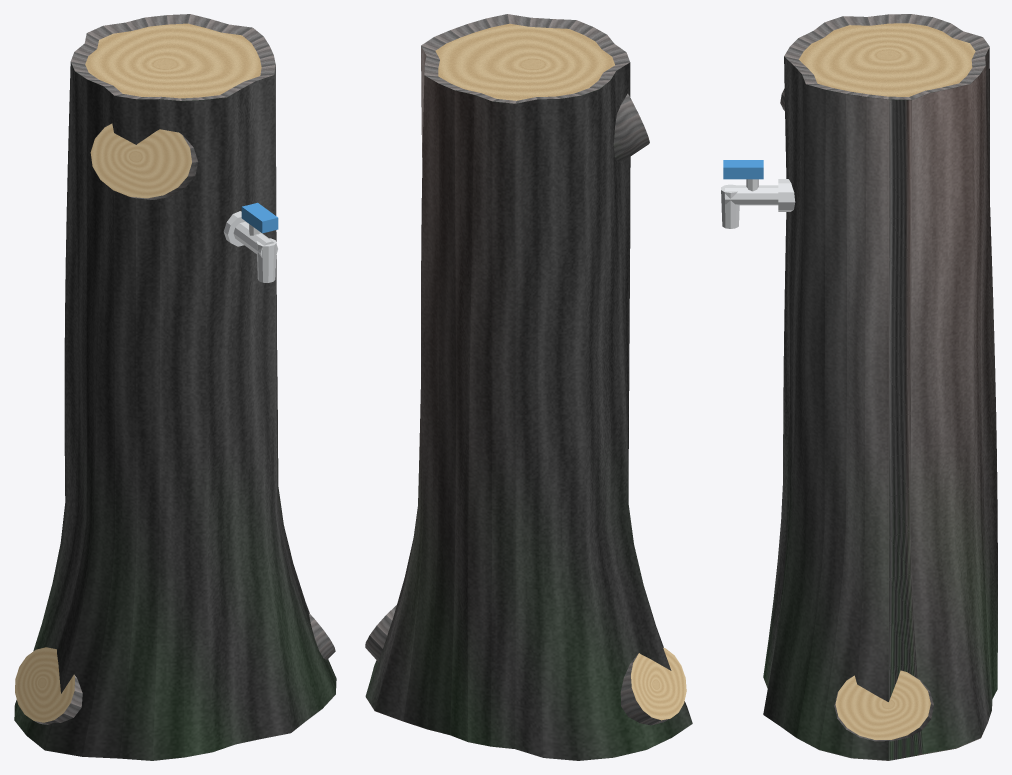
File: keran_air_kecil.glb
3 renders of one model, left to right at view 1: azimuth 30°, elevation 25°; view 2: azimuth 150°, elevation 25°; view 3: azimuth 270°, elevation 25°, orthographic.
Visible parts, largest first — view 1: Tunggul_Semen_Corak_Kulit_Kayu, Kayu_Potongan_Krem_Pucuk_Dan_Akar, Keran_Air_Krom, Tuas_Keran_Biru; view 2: Tunggul_Semen_Corak_Kulit_Kayu, Kayu_Potongan_Krem_Pucuk_Dan_Akar; view 3: Tunggul_Semen_Corak_Kulit_Kayu, Kayu_Potongan_Krem_Pucuk_Dan_Akar, Keran_Air_Krom, Tuas_Keran_Biru.
Part boxes in pixels (box(x1,y1,x2,y2)): Tunggul_Semen_Corak_Kulit_Kayu: box(14, 14, 336, 760); Kayu_Potongan_Krem_Pucuk_Dan_Akar: box(15, 23, 261, 722); Keran_Air_Krom: box(223, 211, 277, 282); Tuas_Keran_Biru: box(241, 202, 278, 233); Tunggul_Semen_Corak_Kulit_Kayu: box(365, 14, 692, 760); Kayu_Potongan_Krem_Pucuk_Dan_Akar: box(435, 23, 686, 720); Tunggul_Semen_Corak_Kulit_Kayu: box(763, 14, 997, 760); Kayu_Potongan_Krem_Pucuk_Dan_Akar: box(799, 23, 975, 739); Keran_Air_Krom: box(721, 179, 795, 228); Tuas_Keran_Biru: box(723, 160, 763, 179).
Bounding box in the file's own units: 0.3697 × 0.7755 × 0.3014.
Materials: 4 (2 with a texture image).
